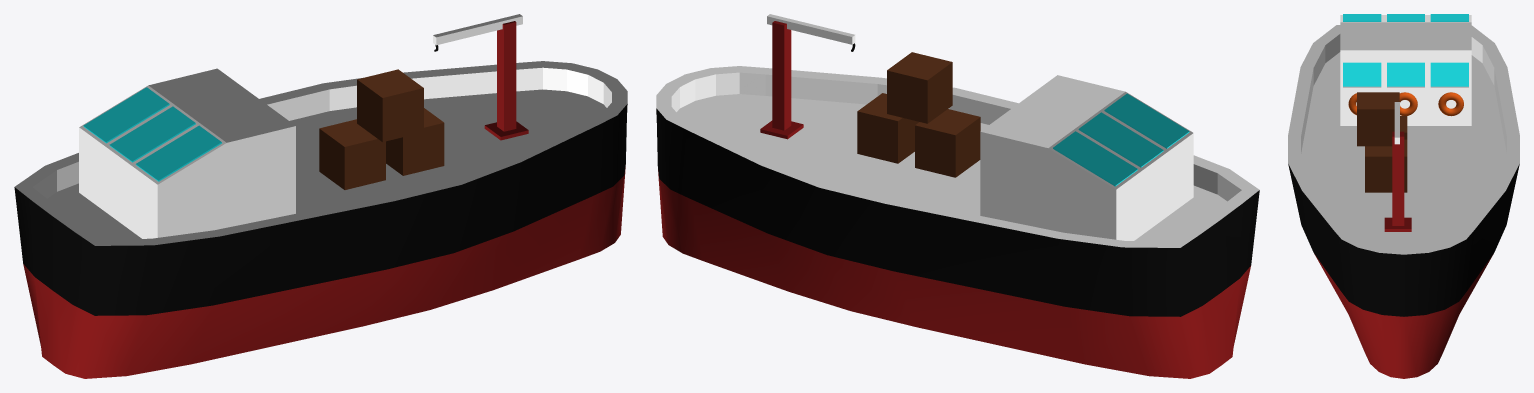
The model's file is Tugboat_1362.obj.
3 views of the same model, side by side, from view 1: azimuth 30°, elevation 25°; view 2: azimuth 150°, elevation 25°; view 3: azimuth 270°, elevation 25° (orthographic). The views are drawn at different scales.
Visible parts, largest first — view 1: Torus003, Box003, Box002, Box001; view 2: Torus003, Box003, Box002, Box001; view 3: Torus003, Box003, Box001.
Boxes of the visible parts, box(x1,y1,x2,y2) form: Torus003: box(14, 14, 627, 378); Box003: box(357, 69, 423, 142); Box002: box(319, 119, 385, 189); Box001: box(386, 108, 444, 175); Torus003: box(656, 14, 1259, 378); Box003: box(887, 52, 952, 123); Box002: box(915, 109, 980, 177); Box001: box(857, 93, 918, 163); Torus003: box(1288, 14, 1519, 378); Box003: box(1357, 92, 1399, 146); Box001: box(1365, 139, 1407, 192).
Size of the model in its own units: 41.48 by 16.85 by 17.66.
